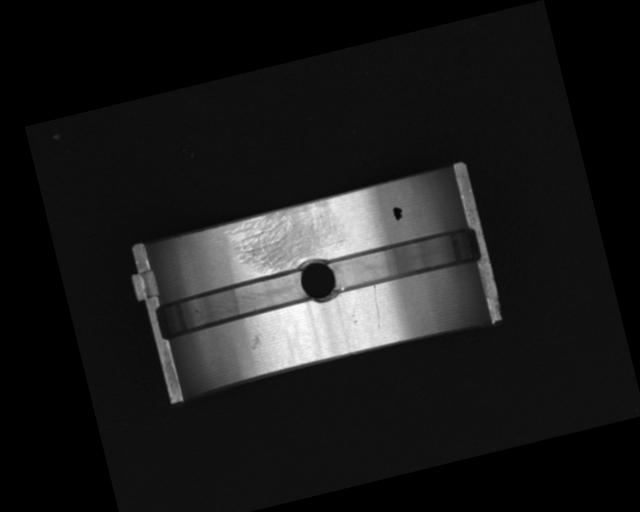blot: (390, 204, 405, 222)
bruise: (247, 333, 263, 351)
gap: (152, 266, 312, 340), (326, 223, 481, 295)
hole: (295, 253, 342, 309)
nick: (368, 284, 383, 320)
scratch: (224, 196, 352, 281)
